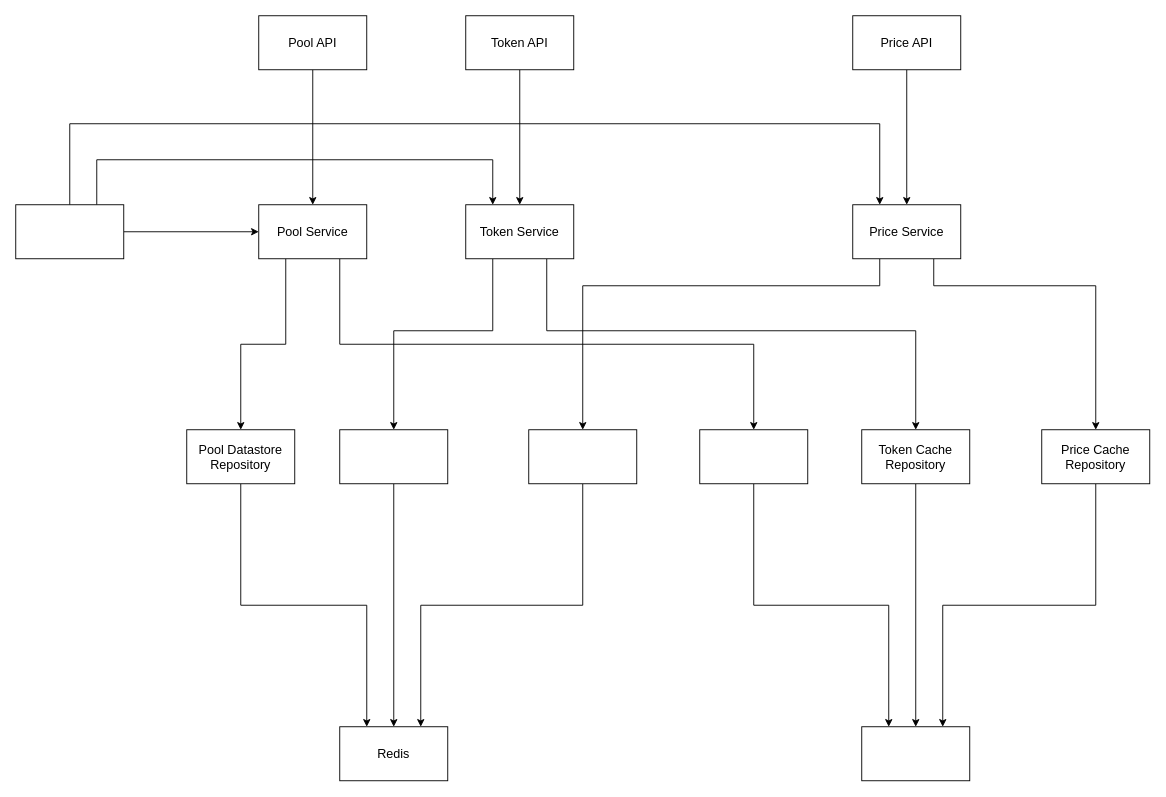
The diagram is 1166 pixels wide and 797 high, and some of its shapes have lost their labels. Each missing label, with the box of its shape:
In-mem concurrentMap: (861, 726, 970, 781)
Pool Cache Repository: (699, 429, 808, 484)
Price Datastore Repository: (528, 429, 637, 484)
Scan Service: (15, 204, 124, 259)
Token Datastore Repository: (339, 429, 448, 484)
